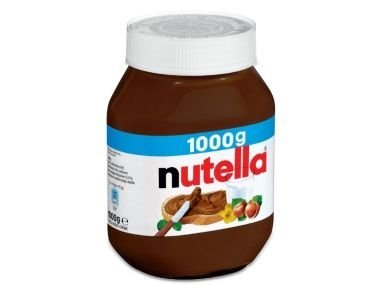nutella: (106, 14, 275, 279)
